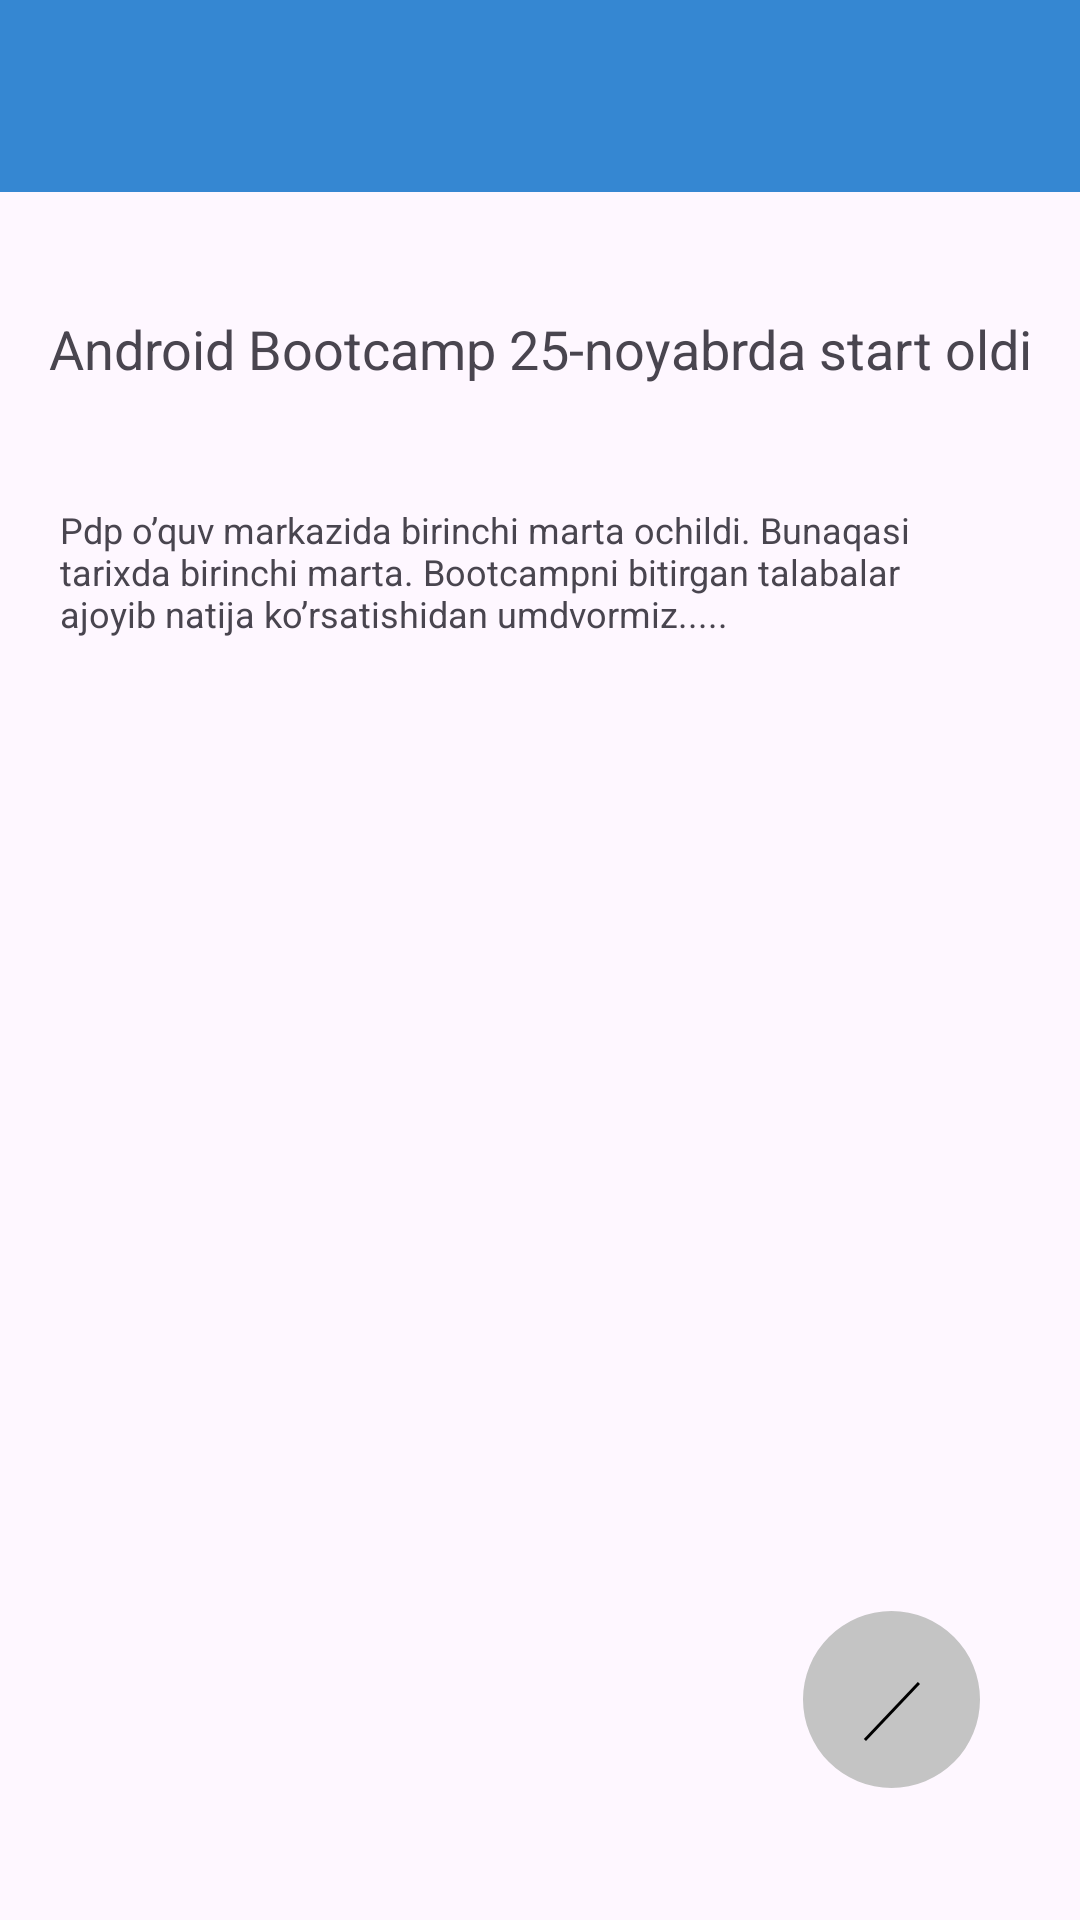

Where to tap for icons on this 1080w x 1920h app screen, as [x,y]:
line: [892,1711]
